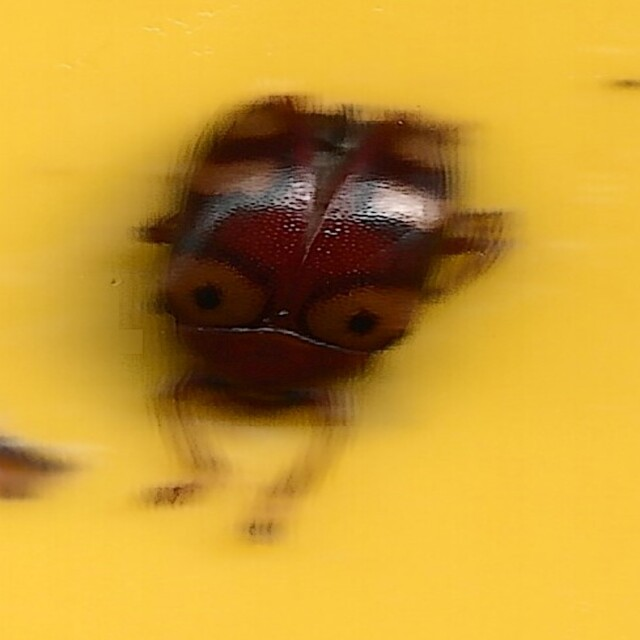Coleoptera: (131, 90, 509, 550)
